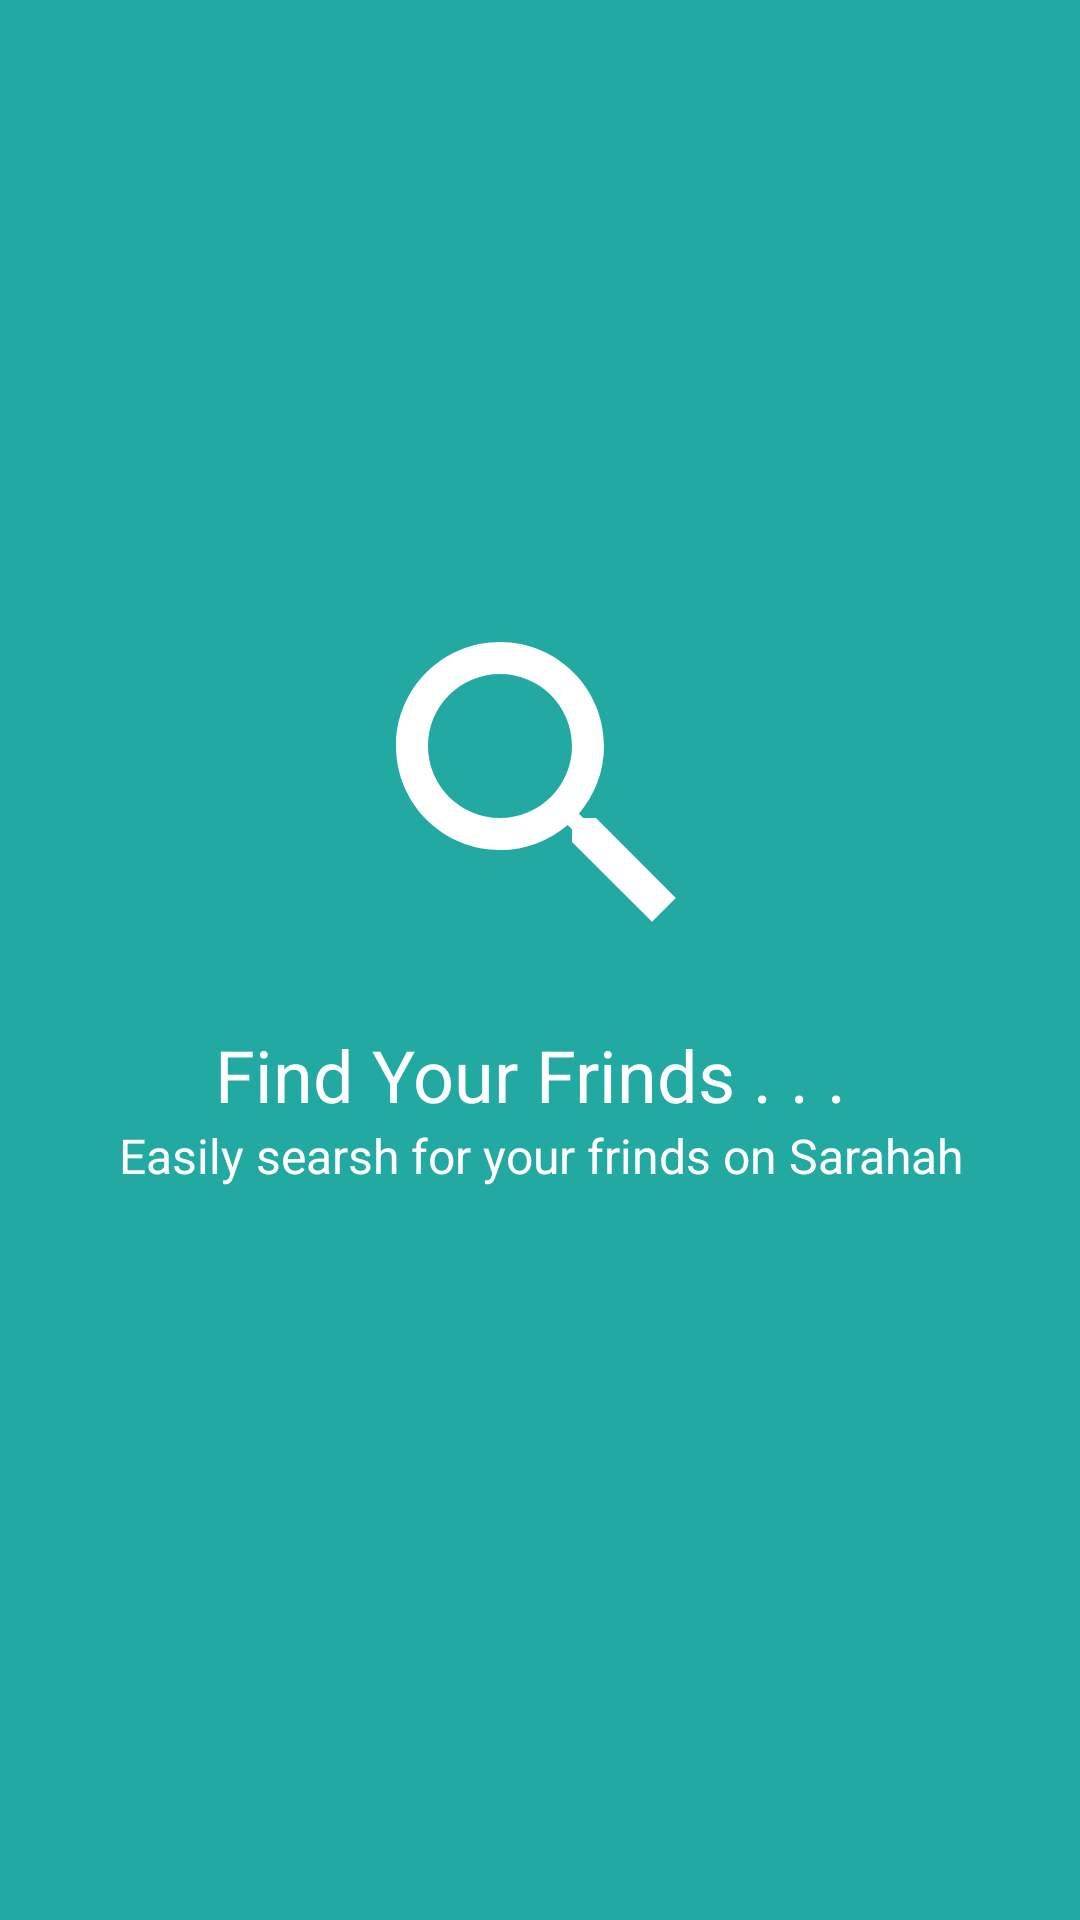

Icons on this 1080 × 1920 Android screen, each with its box as bbox=(x1, y1, x2, y2):
search frinds: bbox=(396, 642, 676, 922)
